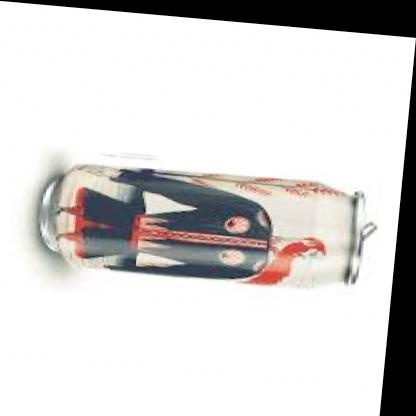trash: (38, 165, 375, 286)
